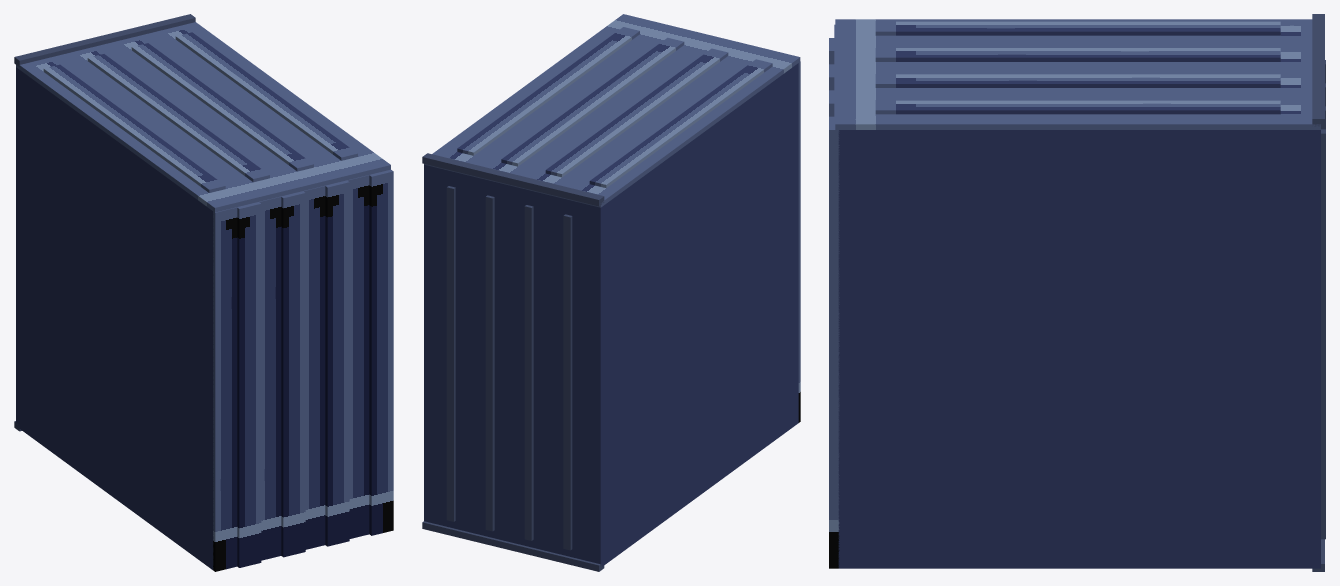
File: CMU3DFreightRMCContainerBlueMiddle.glb
3 renders of one model, left to right at view 1: azimuth 30°, elevation 25°; view 2: azimuth 150°, elevation 25°; view 3: azimuth 270°, elevation 25°, orthographic. The views are drawn at different scales.
Parts seen in each view (by area): view 1: closed cargo shell, source-painted corrugated roof, painted corrugation 6, painted corrugation 4, painted corrugation 8, painted corrugation 2, painted corrugation 1, painted corrugation 3, painted corrugation 5, painted corrugation 7, source-painted roof ridge 4, source-painted roof ridge 1 (+3 smaller); view 2: closed cargo shell, source-painted corrugated roof, rear wall corrugation (×4), rear horizontal frame (×2), source-painted roof ridge 2, source-painted roof ridge 1, source-painted roof ridge 3, source-painted roof ridge 4, painted corrugation 1; view 3: closed cargo shell, source-painted corrugated roof, source-painted roof ridge 1, source-painted roof ridge 4, source-painted roof ridge 2, source-painted roof ridge 3, painted corrugation 8, rear wall corrugation, rear horizontal frame.
Boxes of the visible parts, left/top/right/bottom form: closed cargo shell: left=16, top=67, right=213, bottom=569; source-painted corrugated roof: left=16, top=22, right=390, bottom=212; painted corrugation 6: left=325, top=180, right=349, bottom=546; painted corrugation 4: left=281, top=191, right=305, bottom=557; painted corrugation 8: left=369, top=169, right=393, bottom=535; painted corrugation 2: left=237, top=202, right=261, bottom=567; painted corrugation 1: left=213, top=207, right=237, bottom=571; painted corrugation 3: left=259, top=196, right=281, bottom=560; painted corrugation 5: left=303, top=185, right=325, bottom=549; painted corrugation 7: left=347, top=175, right=369, bottom=538; source-painted roof ridge 4: left=175, top=32, right=357, bottom=160; source-painted roof ridge 1: left=43, top=64, right=225, bottom=192; closed cargo shell: left=424, top=63, right=798, bottom=566; source-painted corrugated roof: left=424, top=14, right=800, bottom=207; rear wall corrugation (×4): left=446, top=186, right=572, bottom=550; rear horizontal frame (×2): left=422, top=153, right=604, bottom=571; source-painted roof ridge 2: left=545, top=48, right=728, bottom=177; source-painted roof ridge 1: left=589, top=59, right=772, bottom=188; source-painted roof ridge 3: left=501, top=37, right=684, bottom=166; source-painted roof ridge 4: left=457, top=27, right=639, bottom=155; painted corrugation 1: left=798, top=61, right=800, bottom=422; closed cargo shell: left=838, top=130, right=1320, bottom=568; source-painted corrugated roof: left=835, top=19, right=1320, bottom=129; source-painted roof ridge 1: left=875, top=21, right=1280, bottom=35; source-painted roof ridge 4: left=875, top=100, right=1280, bottom=114; source-painted roof ridge 2: left=875, top=48, right=1280, bottom=61; source-painted roof ridge 3: left=875, top=74, right=1280, bottom=87; painted corrugation 8: left=829, top=116, right=839, bottom=568; rear wall corrugation: left=1321, top=129, right=1325, bottom=539; rear horizontal frame: left=1312, top=14, right=1324, bottom=126.
Bounding box in the file's own units: 1 × 2.01 × 2.
Materials: 8 (6 with a texture image).
